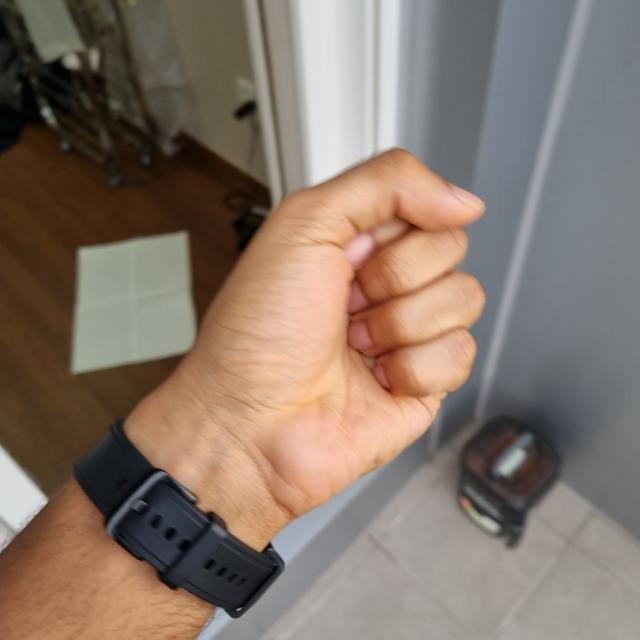Rock: (131, 153, 488, 537)
